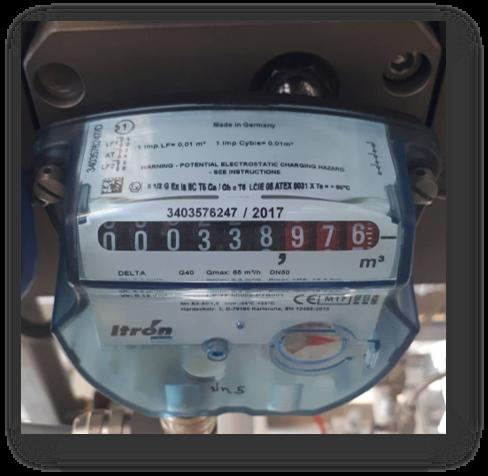analog_dial: (96, 218, 397, 255)
